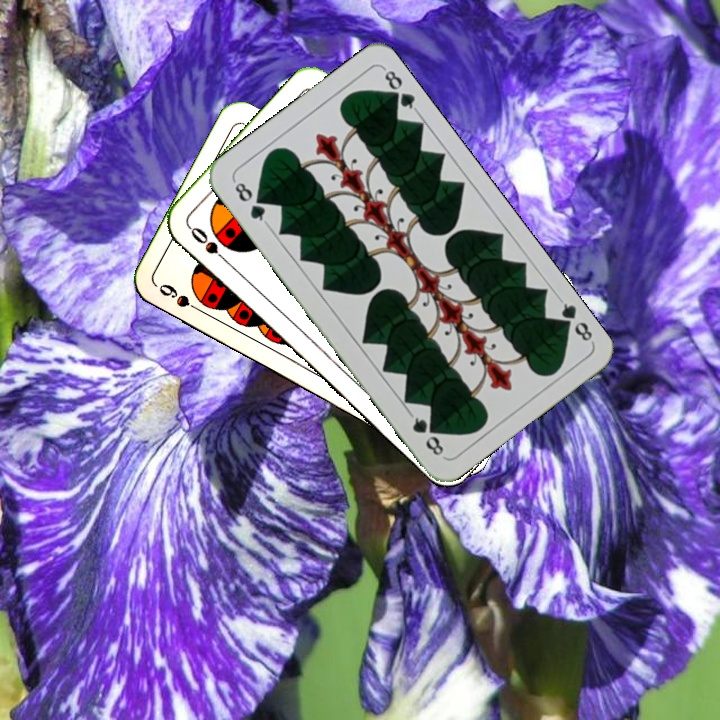G8: (552, 294, 596, 345), (229, 176, 271, 227)
S9: (154, 279, 208, 317)
SO: (185, 223, 233, 268)
